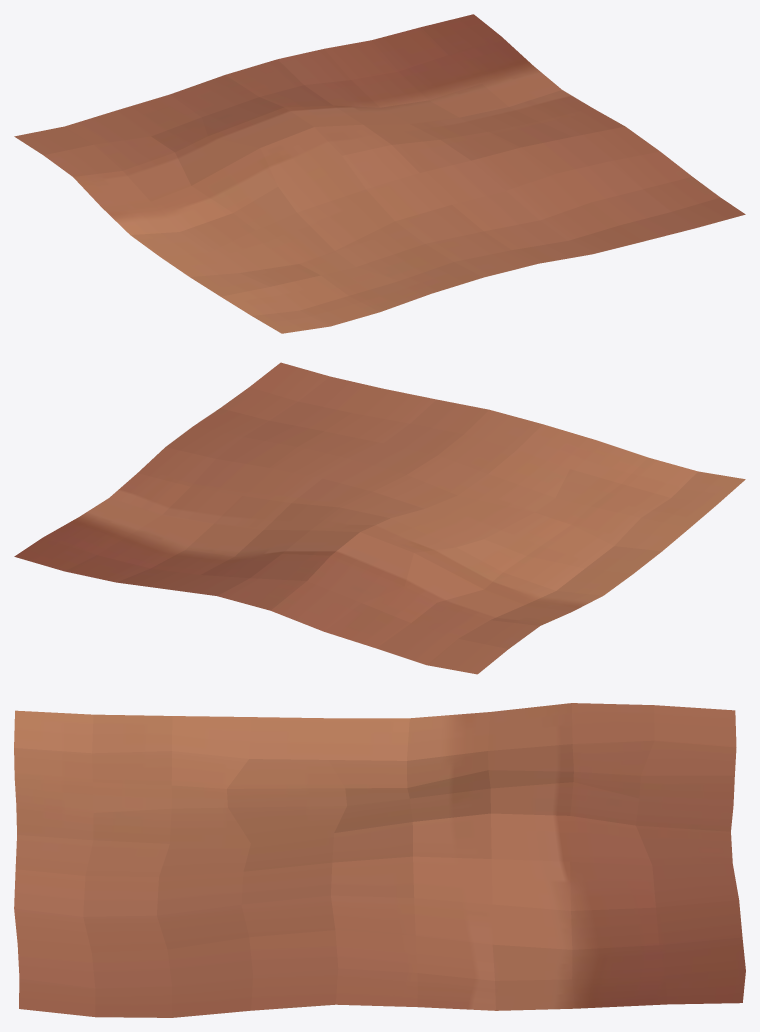
The model's file is ground-transformed.glb.
The picture shows the model from 3 angles, top to bottom: view 1: azimuth 30°, elevation 25°; view 2: azimuth 150°, elevation 25°; view 3: azimuth 270°, elevation 25°; orthographic projection. The views are drawn at different scales.
Parts seen in each view (by area): view 1: Plane; view 2: Plane; view 3: Plane.
Boxes of the visible parts, <box> form: Plane: <box>14,14,745,333</box>; Plane: <box>14,362,745,674</box>; Plane: <box>14,703,745,1017</box>.
Bounding box in the file's own units: 3.25 × 0.2725 × 3.24.
Materials: 1 (1 with a texture image).
